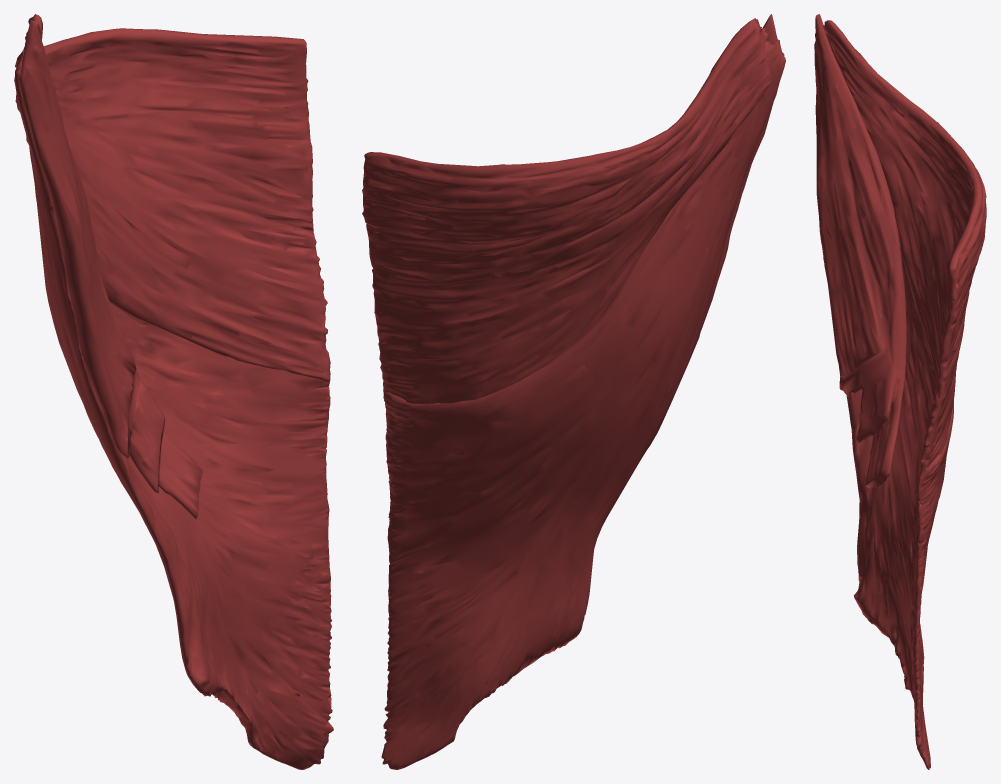
Rendered from latissimus-dorsi-muscle-r.glb.
3 views of the same model, side by side, from view 1: azimuth 30°, elevation 25°; view 2: azimuth 150°, elevation 25°; view 3: azimuth 270°, elevation 25° (orthographic). The views are drawn at different scales.
Parts seen in each view (by area): view 1: Latissimus dorsi muscle.r; view 2: Latissimus dorsi muscle.r; view 3: Latissimus dorsi muscle.r.
Boxes of the visible parts, <box> form: Latissimus dorsi muscle.r: <box>14,14,333,769</box>; Latissimus dorsi muscle.r: <box>362,14,785,769</box>; Latissimus dorsi muscle.r: <box>814,14,986,769</box>.
Size of the model in its own units: 0.1868 by 0.4104 by 0.1017.
